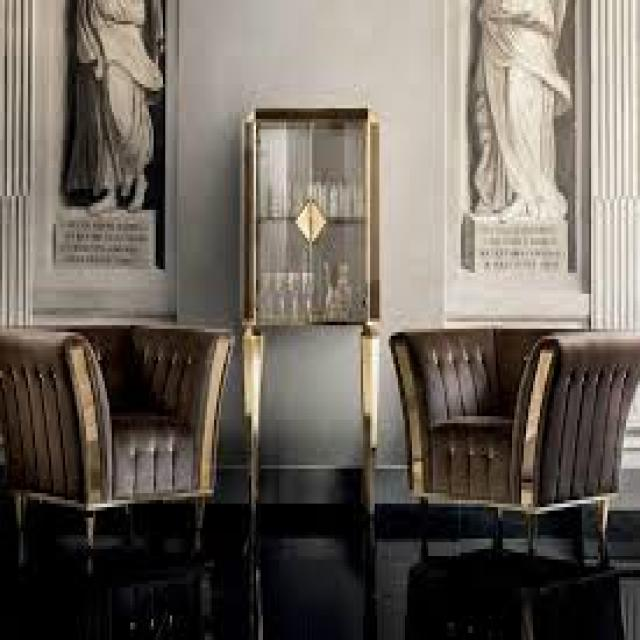Chair: (380, 303, 640, 572), (2, 314, 226, 537)
